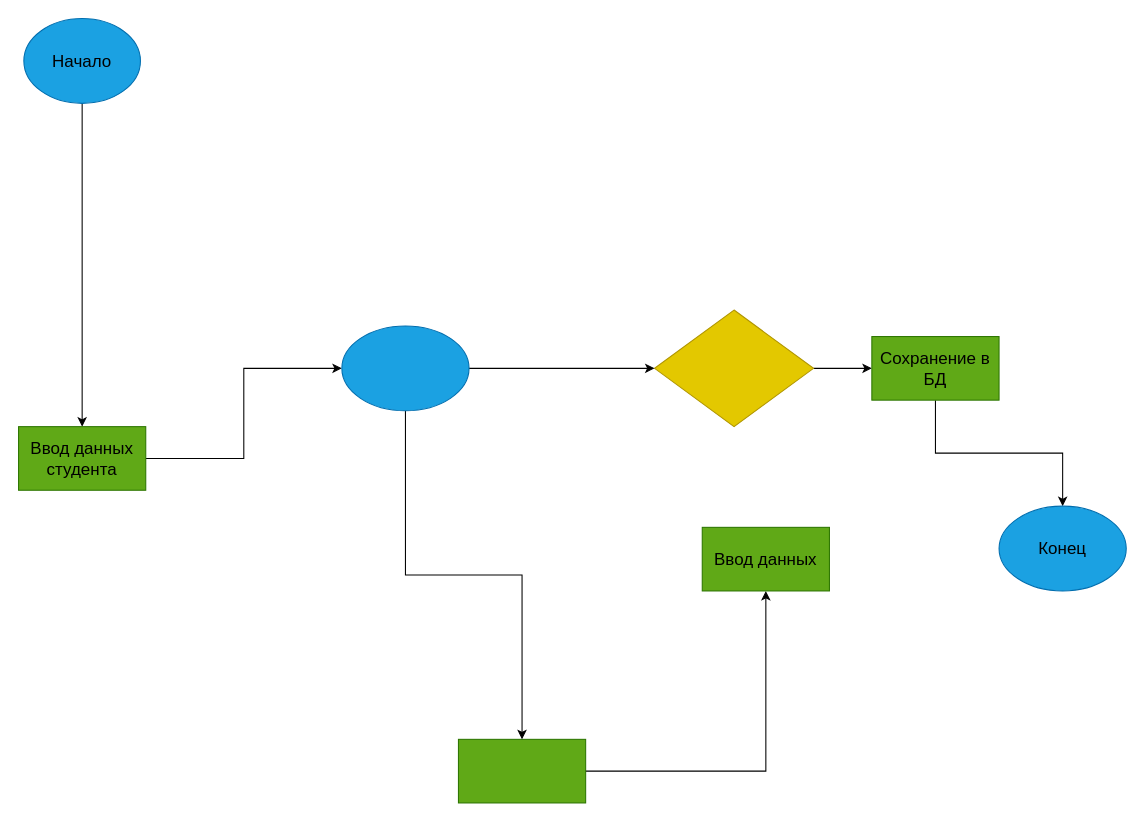
Image size: 1145x821. Some labels were removed from this diagram. Each missing label, with the box of its shape:
Проверка: (341, 325, 469, 411)
Проверка корректности данных: (653, 309, 814, 427)
Сообщение об ошибке: (457, 738, 586, 803)
